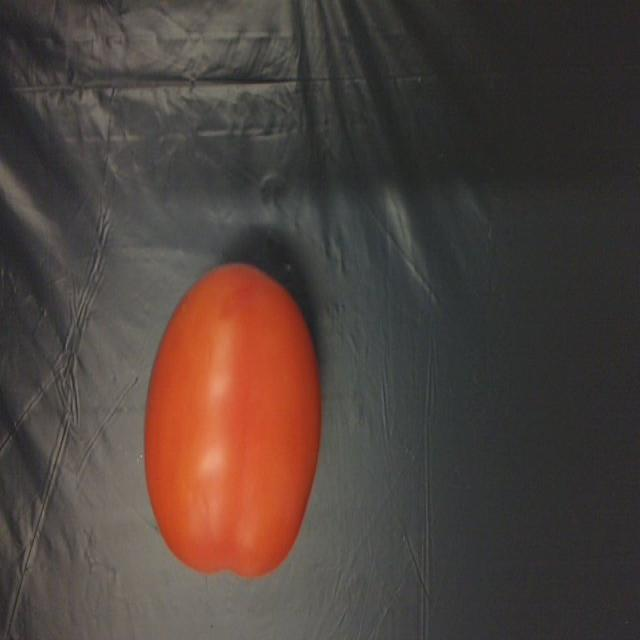kirmizi: (119, 257, 344, 589)
